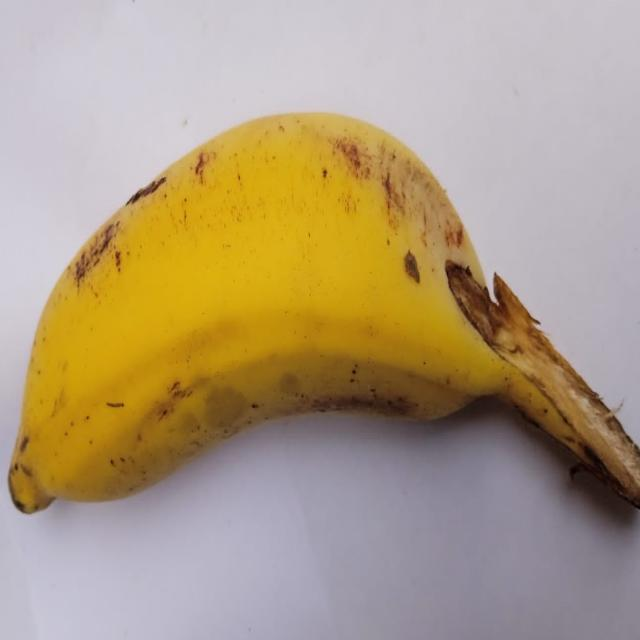banana: (9, 114, 639, 512)
